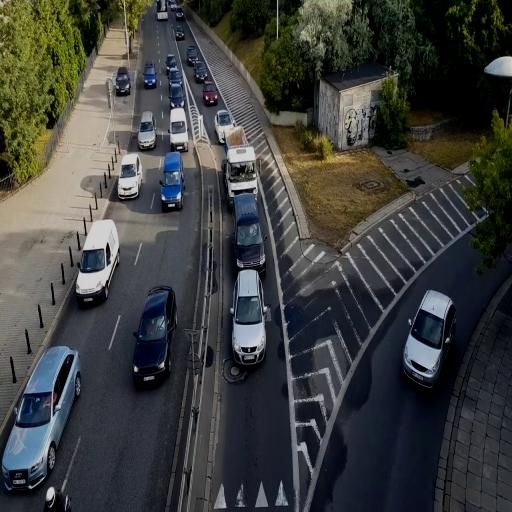vehicle: (1, 344, 83, 493), (402, 288, 456, 390), (231, 146, 267, 274), (132, 284, 177, 386), (75, 220, 120, 308), (230, 269, 268, 367), (232, 190, 267, 274), (224, 141, 258, 203), (160, 151, 184, 211), (118, 154, 143, 200), (166, 52, 183, 103), (44, 483, 72, 512), (170, 106, 188, 151), (138, 112, 156, 152), (215, 109, 234, 145), (114, 67, 131, 96), (143, 62, 158, 89), (203, 82, 219, 106), (194, 62, 208, 83)
